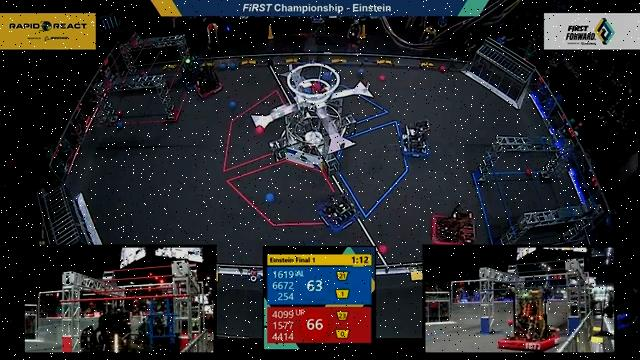Robot: (429, 200, 478, 246), (314, 189, 361, 234), (398, 117, 434, 164), (193, 61, 227, 102), (178, 52, 208, 95)
